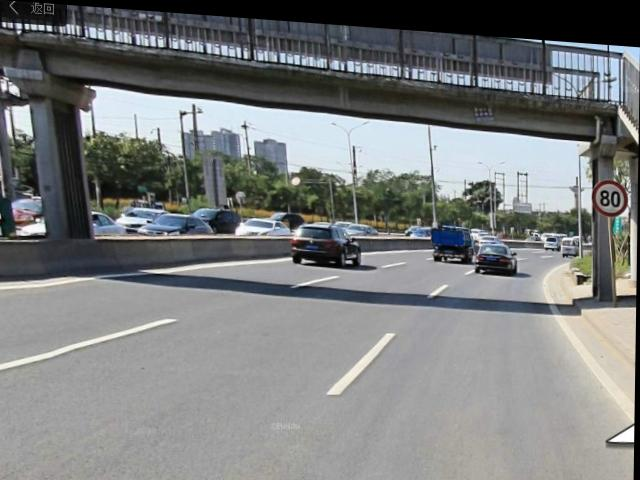limit80: (591, 163, 630, 210)
